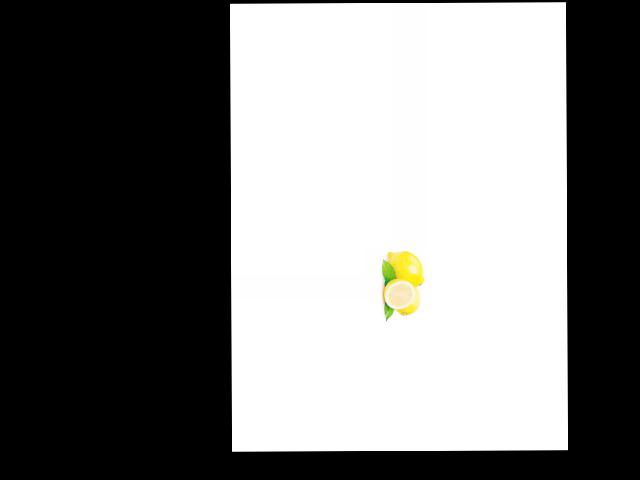lemon: (380, 278, 414, 308)
